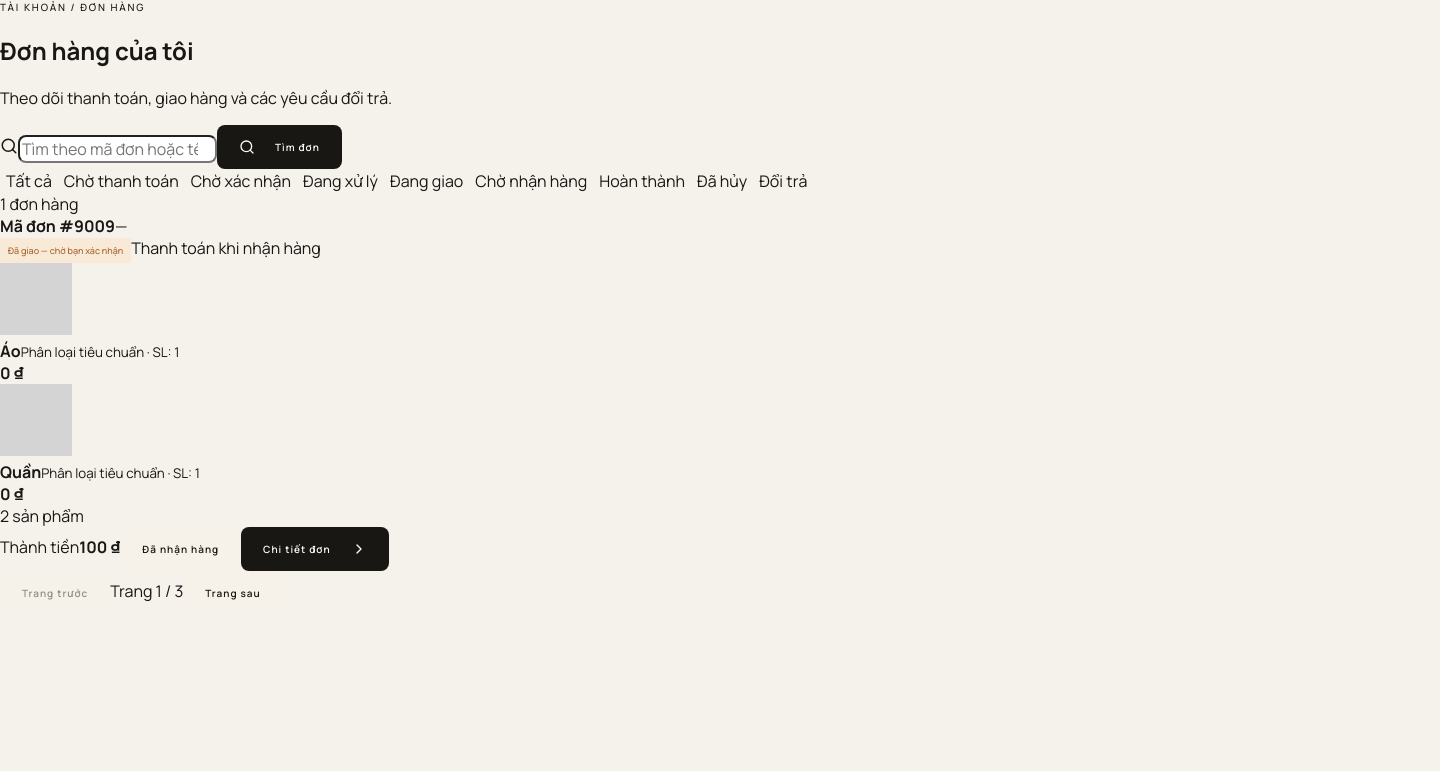
Test: opens a review immediately after receipt from route 9 and preserves list filters
Click the button "Chi tiết đơn".
click(315, 549)  # box [241, 527, 389, 571]
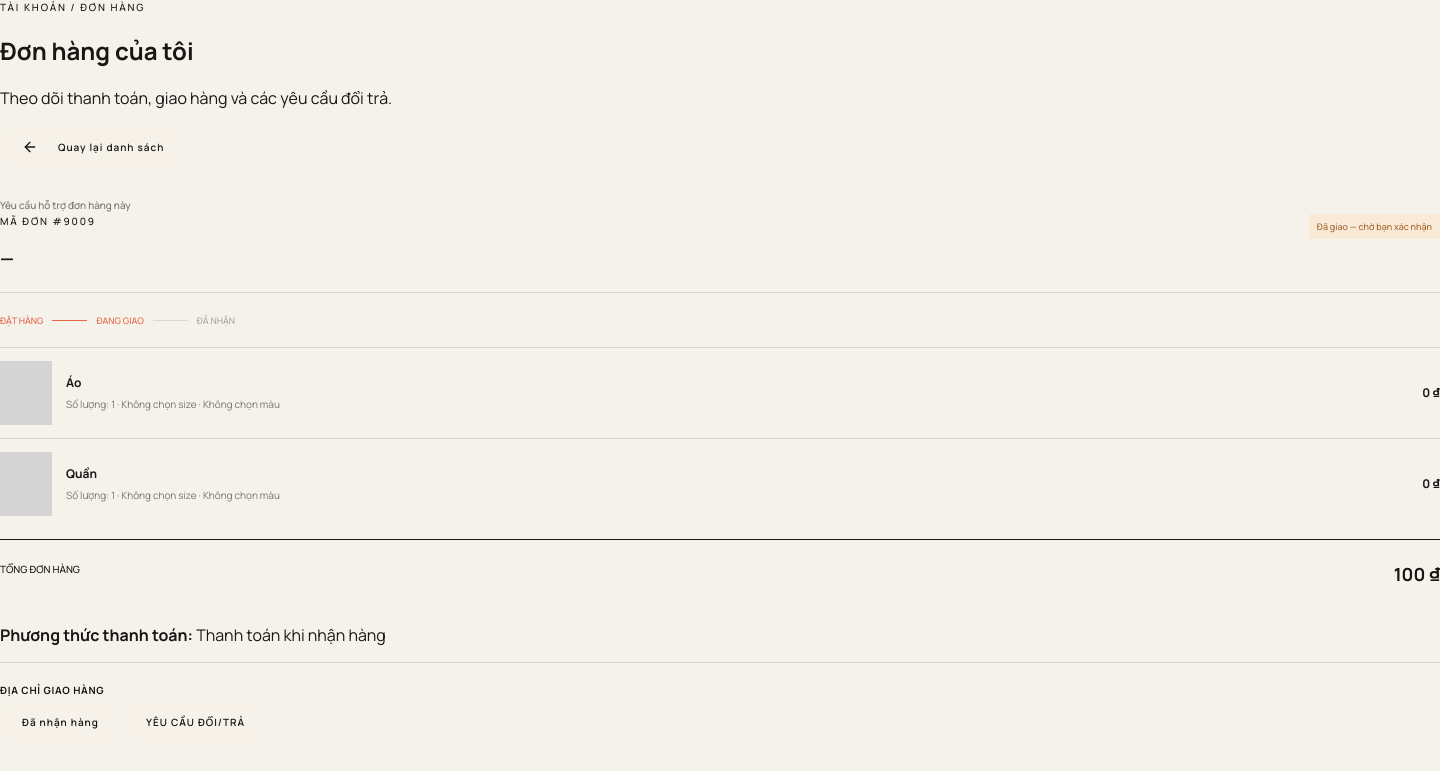
Click the button "Đã nhận hàng".
click(60, 722)  # box [0, 700, 121, 744]
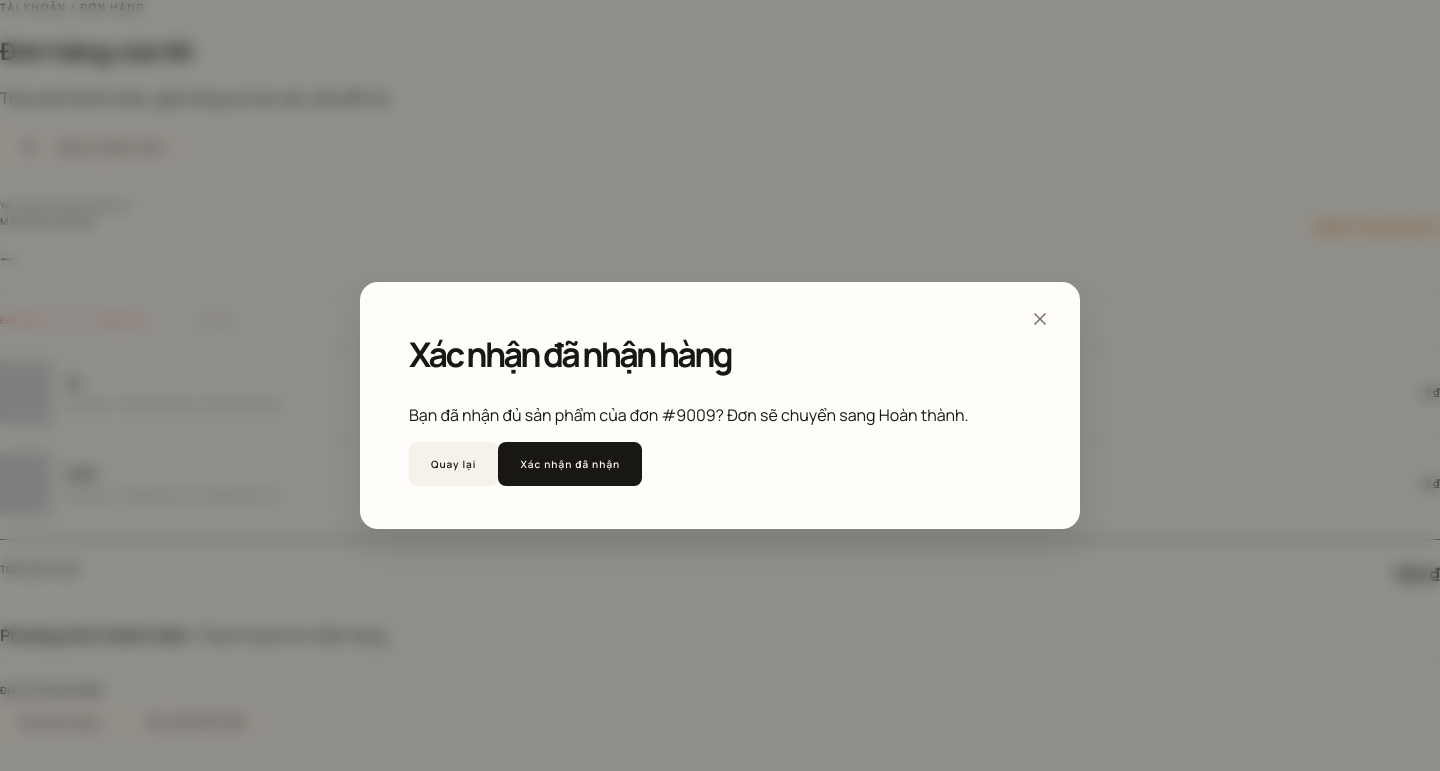
Click the button "Xác nhận đã nhận".
click(570, 464)  # box [498, 442, 642, 486]
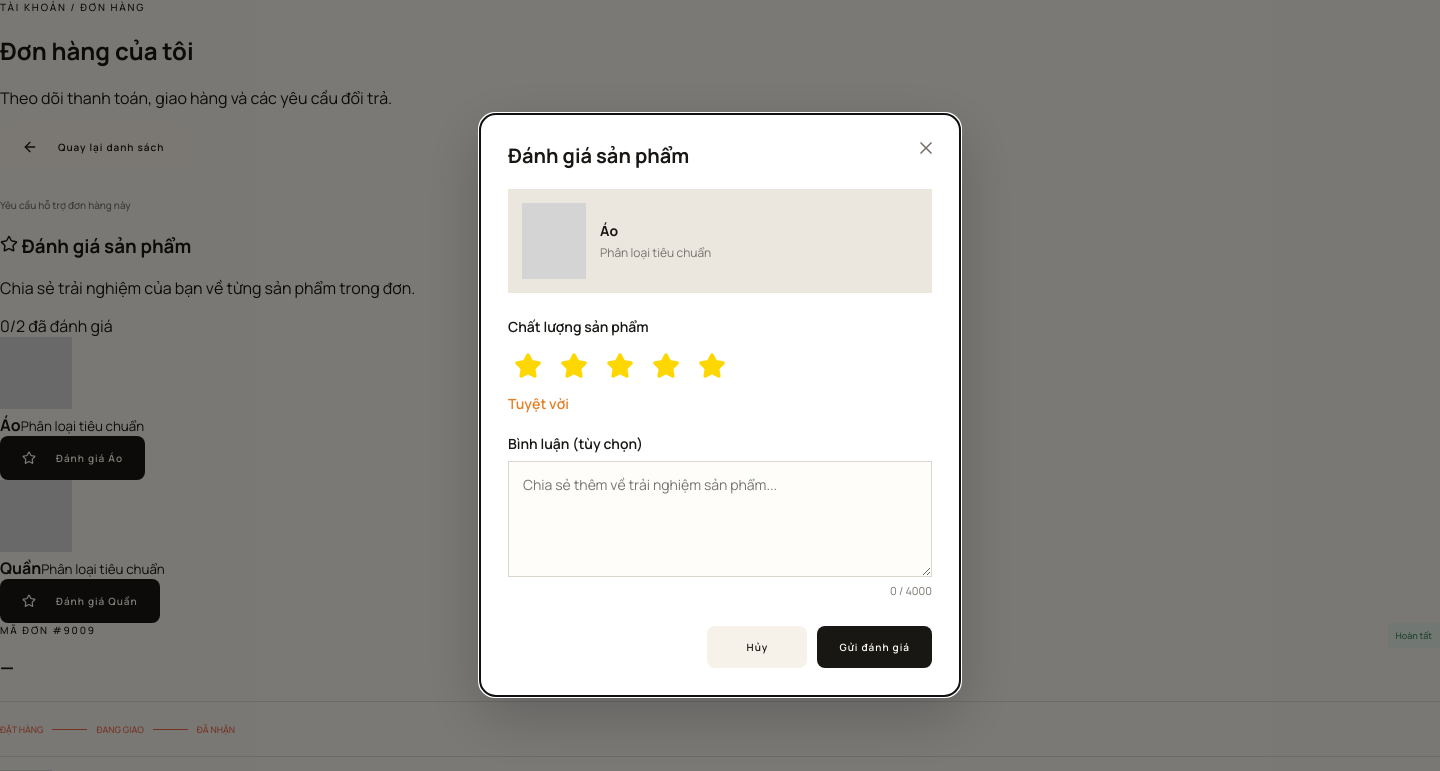
Expected: the dialog named "Đánh giá Áo" is shown, [480, 114, 960, 696]
Click the button named "Đóng".
click(926, 148)  # box [908, 130, 944, 166]
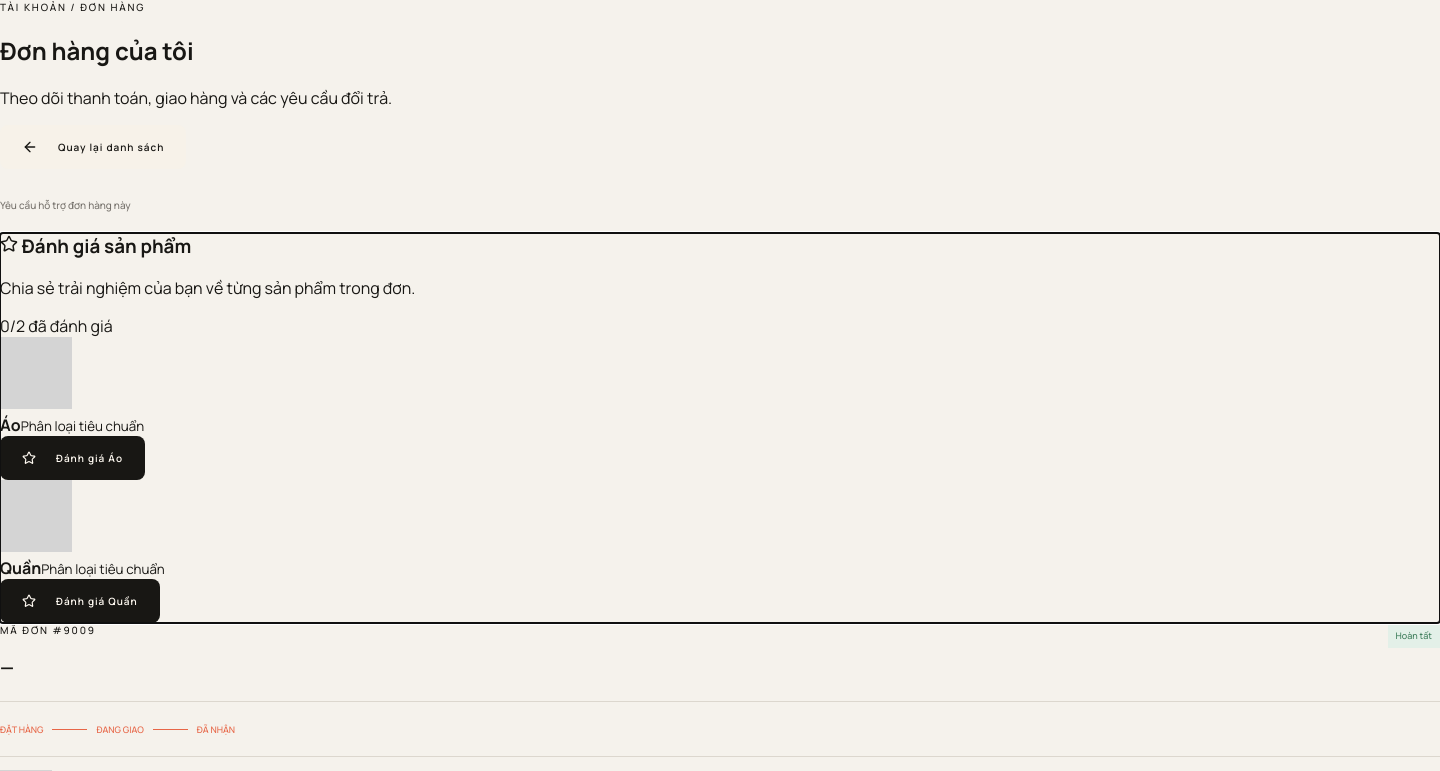
Expected: the dialog is gone
Click the button "Quay lại danh sách".
click(93, 147)  # box [0, 125, 186, 169]
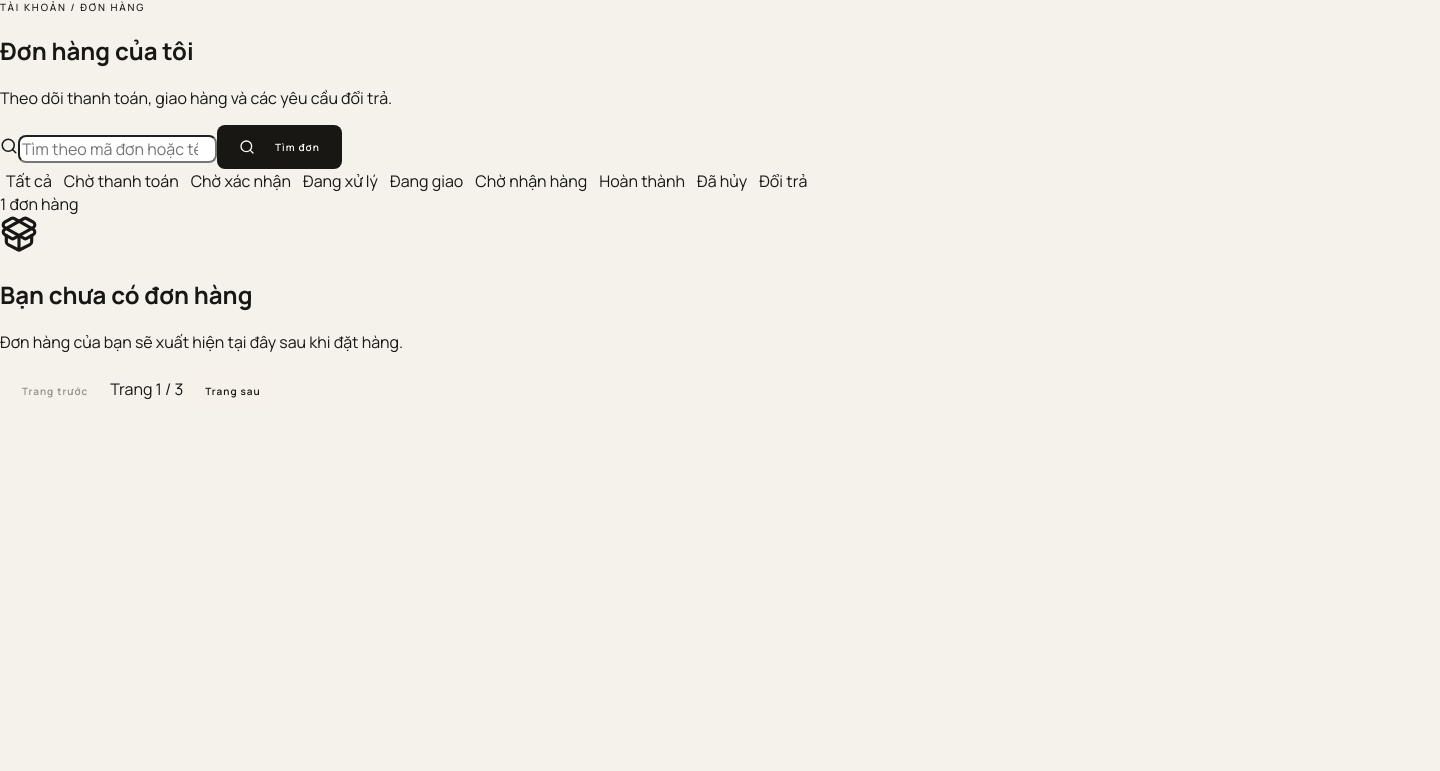
Expected: the heading "Bạn chưa có đơn hàng" is shown, [0, 278, 252, 311]
